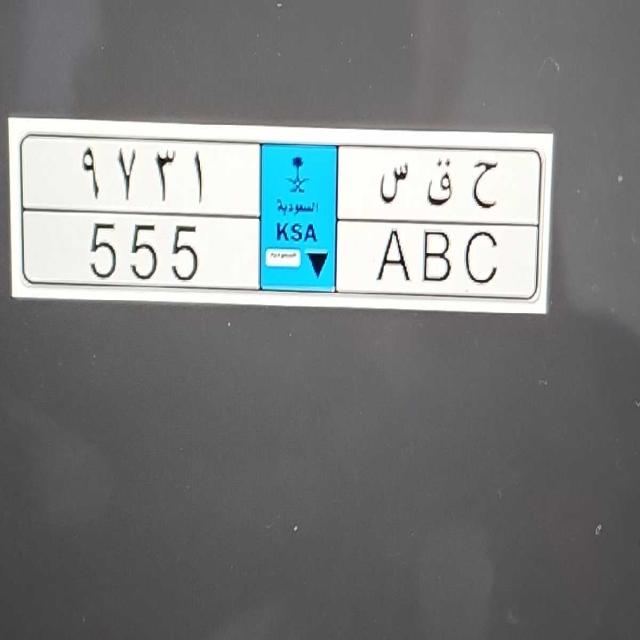license_plate: (24, 206, 522, 300)
